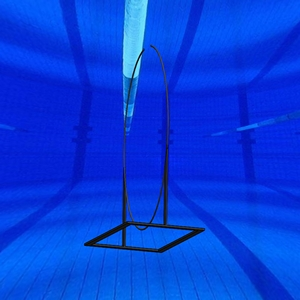circle: (84, 44, 206, 253)
